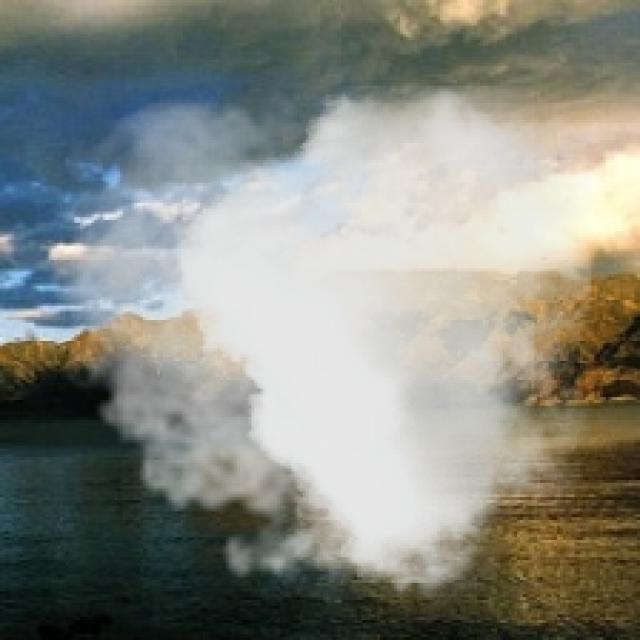Smoke: (29, 86, 592, 614)
